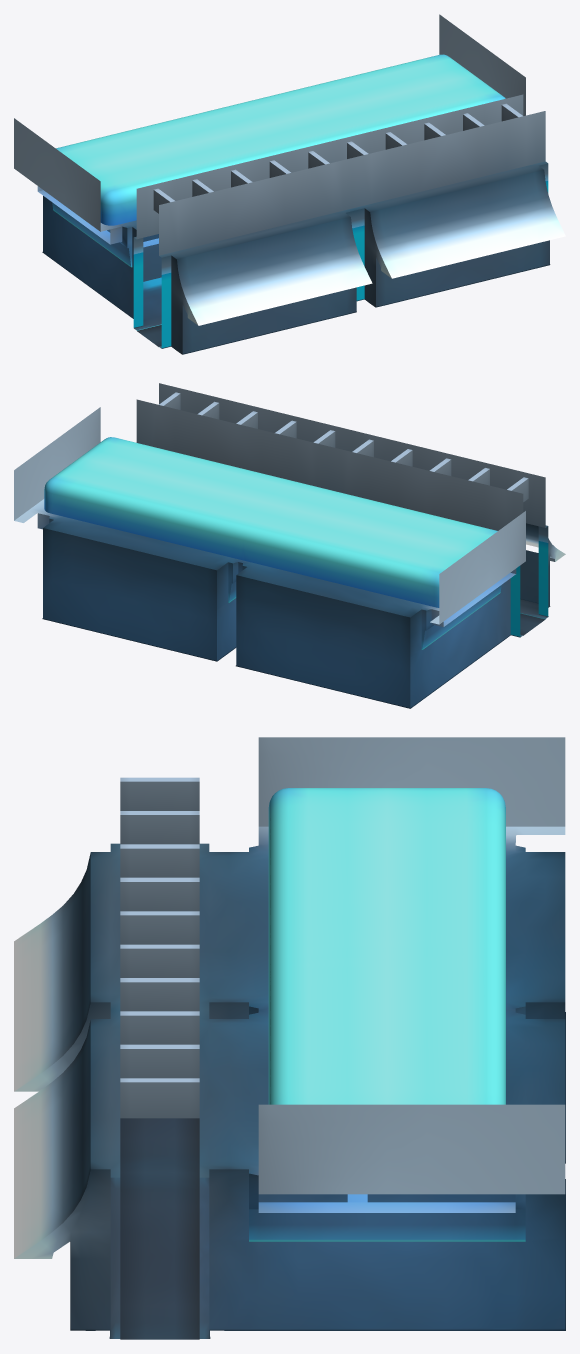
File: M_Double_room.fbx
3 views of the same model, one above another, from view 1: azimuth 30°, elevation 25°; view 2: azimuth 150°, elevation 25°; view 3: azimuth 270°, elevation 25° (orthographic). The views are drawn at different scales.
Parts seen in each view (by area): view 1: Room.008; view 2: Room.008; view 3: Room.008.
Part boxes in pixels (x1,y1,x2,y2): Room.008: [14, 14, 565, 354]; Room.008: [14, 383, 565, 708]; Room.008: [14, 737, 565, 1339].
Size of the model in its own units: 4400 by 1405 by 2793.
